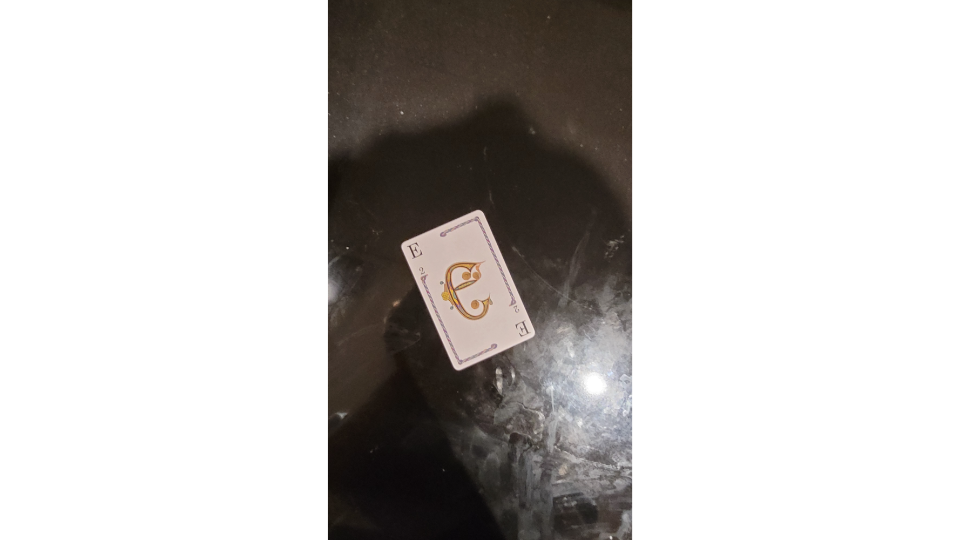E: (397, 205, 540, 373)
